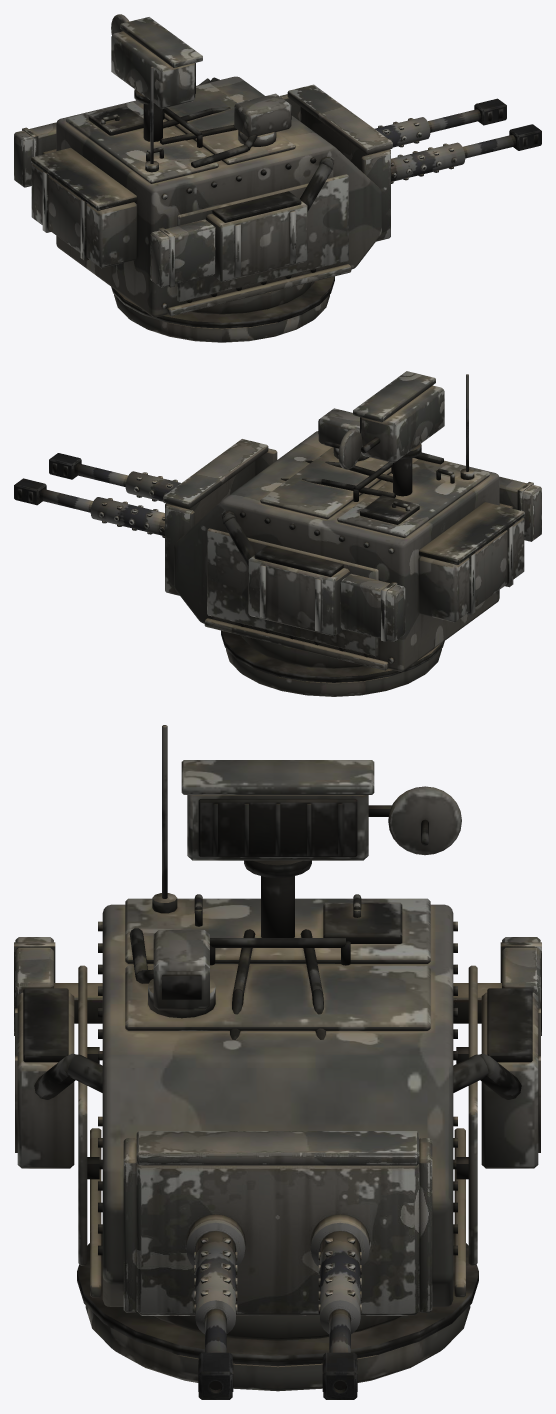
File: turret_grach_evo_ash.glb
3 renders of one model, top to bottom at view 1: azimuth 30°, elevation 25°; view 2: azimuth 150°, elevation 25°; view 3: azimuth 270°, elevation 25°, orthographic. The views are drawn at different scales.
Parts seen in each view (by area): view 1: turret_light_evo, guns, pods; view 2: turret_light_evo, guns, pods; view 3: turret_light_evo, guns, pods.
Boxes of the visible parts, box(x1,y1,x2,y2) form: turret_light_evo: box(31, 14, 381, 342); guns: box(280, 84, 541, 241); pods: box(14, 122, 215, 287); turret_light_evo: box(174, 371, 524, 696); guns: box(14, 439, 277, 595); pods: box(340, 476, 541, 641); turret_light_evo: box(15, 725, 540, 1391); guns: box(123, 1131, 432, 1399); pods: box(14, 937, 541, 1035).
Size of the model in its own units: 1.86 by 1.09 by 1.05.
Materials: 3 (3 with a texture image).
